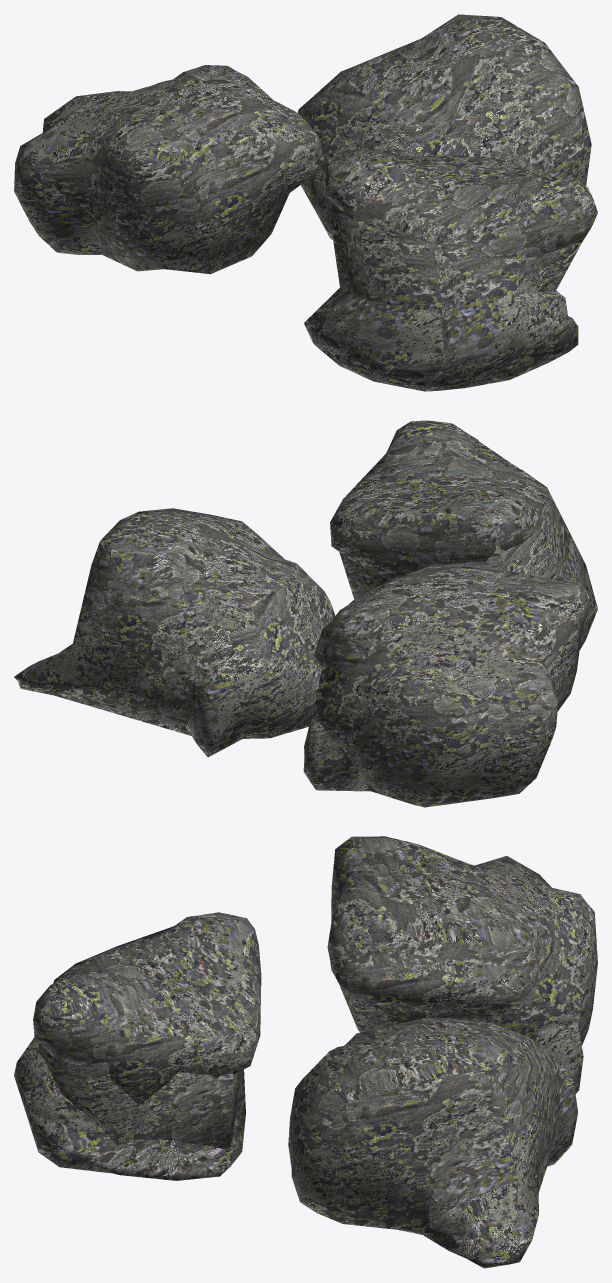
File: GroupRocks01.DAE
3 views of the same model, one above another, from view 1: azimuth 30°, elevation 25°; view 2: azimuth 150°, elevation 25°; view 3: azimuth 270°, elevation 25° (orthographic). The views are drawn at different scales.
Parts seen in each view (by area): view 1: GroupRock512, GroupRock128, GroupRock256; view 2: GroupRock512, GroupRock256, GroupRock128; view 3: GroupRock512, GroupRock128, GroupRock256.
Part boxes in pixels (x1=…): GroupRock512: x1=14, y1=14, x2=597, y2=391; GroupRock128: x1=85, y1=46, x2=581, y2=390; GroupRock256: x1=14, y1=33, x2=597, y2=391; GroupRock512: x1=14, y1=420, x2=597, y2=807; GroupRock256: x1=17, y1=446, x2=585, y2=806; GroupRock128: x1=54, y1=439, x2=581, y2=782; GroupRock512: x1=14, y1=836, x2=597, y2=1268; GroupRock128: x1=38, y1=849, x2=591, y2=1231; GroupRock256: x1=14, y1=836, x2=578, y2=1267.
Size of what is drawn, in the model's own units: 17.2 by 15.12 by 5.66.
